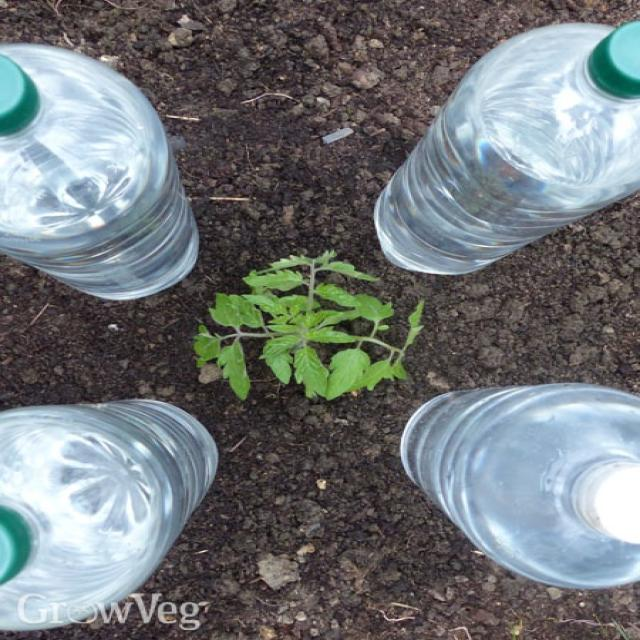plastic_bottle: (372, 19, 640, 276)
